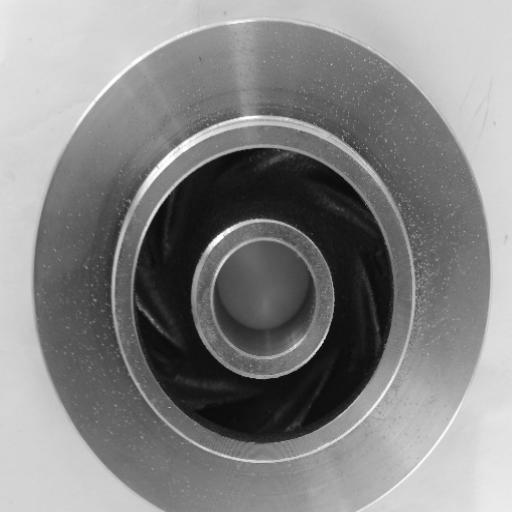polished_casting: (30, 15, 493, 512)
